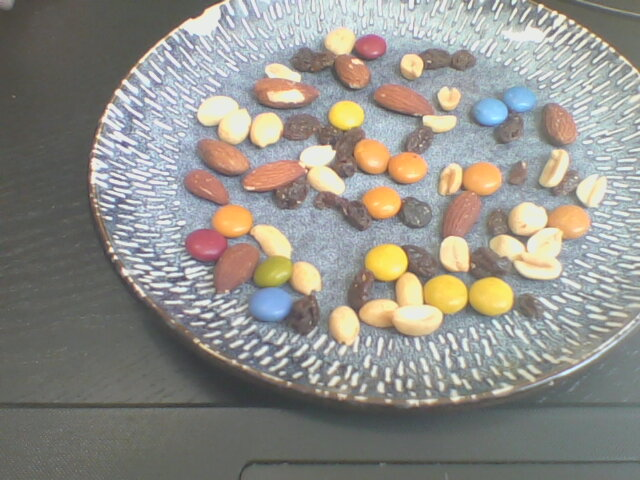almond: (374, 84, 436, 119), (214, 244, 258, 292), (254, 78, 320, 109), (243, 160, 306, 192), (197, 138, 250, 176), (441, 191, 481, 240), (184, 169, 229, 206), (542, 102, 577, 146), (334, 54, 371, 91)
mm: (468, 276, 514, 316), (423, 274, 467, 314), (366, 244, 408, 281), (251, 287, 295, 321), (460, 162, 503, 196), (211, 206, 252, 238), (186, 229, 227, 261), (388, 151, 428, 183), (356, 138, 390, 175), (363, 186, 401, 218), (328, 100, 365, 130), (473, 98, 508, 125), (503, 86, 536, 112), (354, 34, 385, 60)
peanut: (250, 224, 292, 263), (393, 304, 443, 335), (514, 251, 563, 280), (537, 149, 570, 189), (359, 299, 404, 328), (508, 202, 547, 235), (198, 95, 239, 126), (287, 261, 322, 295), (250, 112, 283, 148), (217, 108, 249, 145), (330, 306, 359, 345), (576, 173, 608, 208), (307, 167, 345, 196), (440, 236, 470, 272), (527, 228, 563, 257), (490, 234, 527, 262), (396, 272, 422, 308), (323, 27, 355, 55), (300, 144, 334, 168), (438, 163, 462, 195), (266, 63, 301, 84), (399, 53, 423, 81), (421, 115, 457, 132), (437, 86, 461, 111)
raisin: (469, 246, 512, 278), (397, 244, 437, 278), (291, 291, 319, 336), (272, 175, 308, 209), (395, 196, 431, 229), (347, 267, 374, 311), (282, 114, 323, 140), (292, 48, 334, 72), (494, 112, 523, 144), (343, 200, 371, 231), (314, 191, 350, 215), (402, 126, 431, 154), (516, 293, 544, 319), (418, 48, 451, 70), (334, 148, 354, 177), (450, 50, 476, 71), (318, 126, 341, 146), (340, 127, 364, 145), (509, 160, 527, 184)
